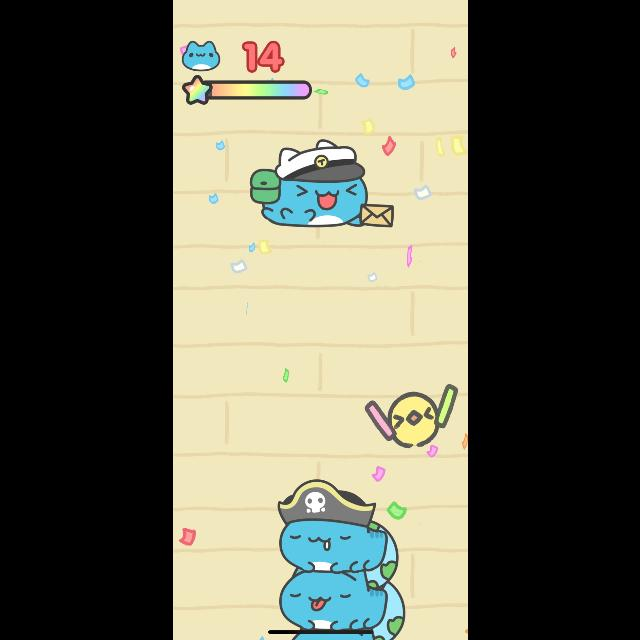capoo: (248, 140, 392, 232), (275, 478, 389, 570), (272, 572, 392, 630)
